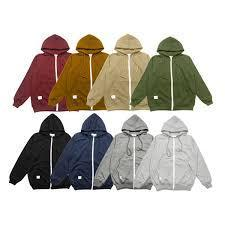sweater: (132, 36, 214, 110), (136, 117, 212, 191), (86, 33, 151, 110), (10, 112, 71, 190), (13, 33, 73, 112), (49, 33, 107, 111), (55, 114, 112, 190), (96, 115, 150, 190)
